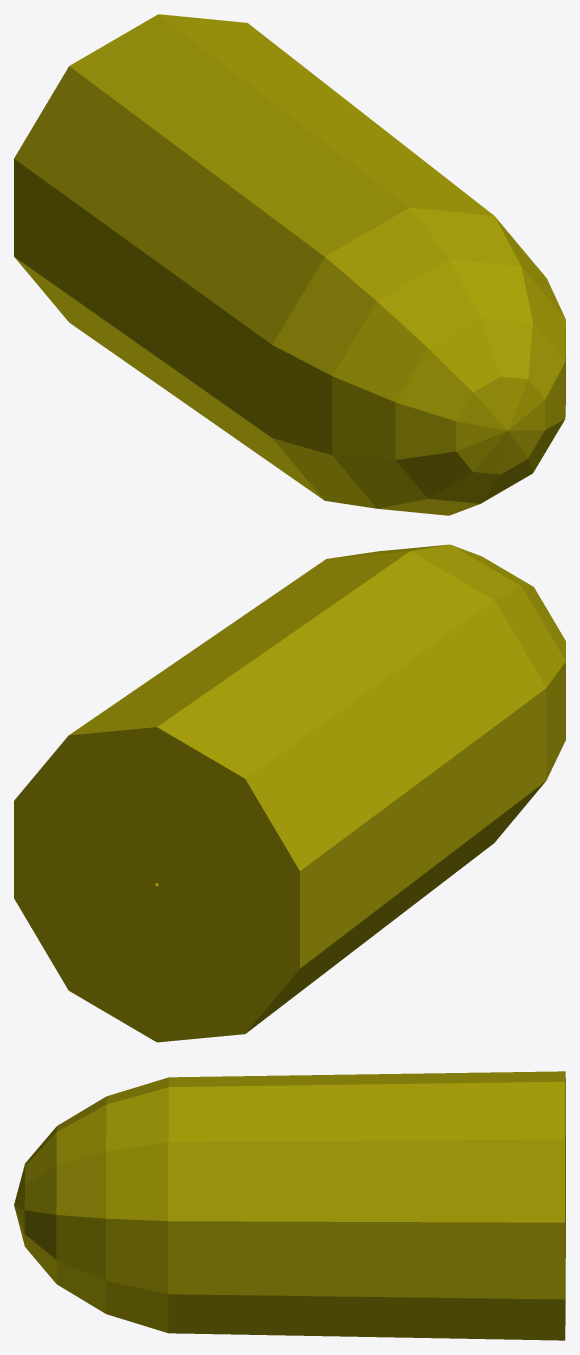
File: MachinegunBulllet.dae
The picture shows the model from 3 angles, top to bottom: view 1: azimuth 30°, elevation 25°; view 2: azimuth 150°, elevation 25°; view 3: azimuth 270°, elevation 25°; orthographic projection. The views are drawn at different scales.
Visible parts, largest first — view 1: BulletObject; view 2: BulletObject; view 3: BulletObject.
Boxes of the visible parts, x1,y1,x2,y2 form: BulletObject: (14, 14, 565, 515); BulletObject: (14, 544, 565, 1042); BulletObject: (14, 1071, 565, 1340).
Size of the model in its own units: 1.58 by 1.66 by 3.33.
